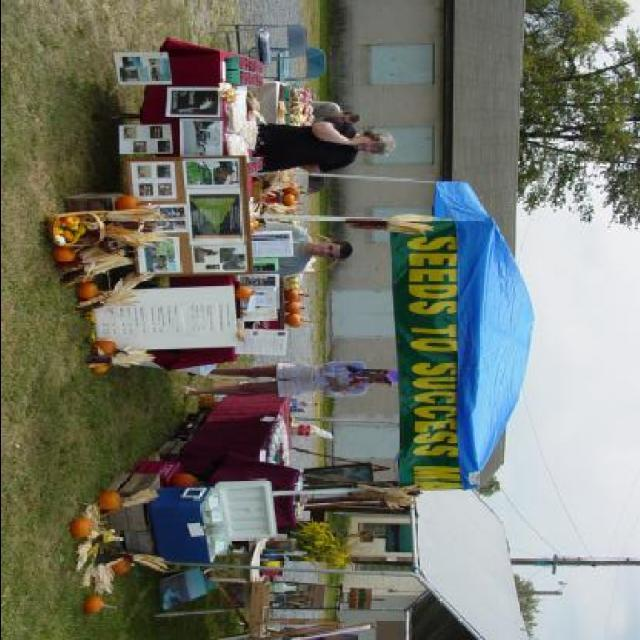Pumpkin: (283, 290, 312, 328), (68, 518, 106, 540), (91, 338, 129, 356), (284, 185, 308, 212), (83, 595, 117, 614), (95, 492, 128, 510), (48, 248, 84, 264), (116, 197, 152, 211), (172, 473, 205, 487), (109, 558, 137, 574), (233, 284, 256, 298), (84, 280, 102, 296), (91, 364, 117, 372), (250, 220, 262, 234), (67, 214, 79, 226), (252, 217, 264, 226), (54, 227, 66, 236), (66, 230, 78, 239), (56, 236, 68, 244), (53, 218, 67, 224)
